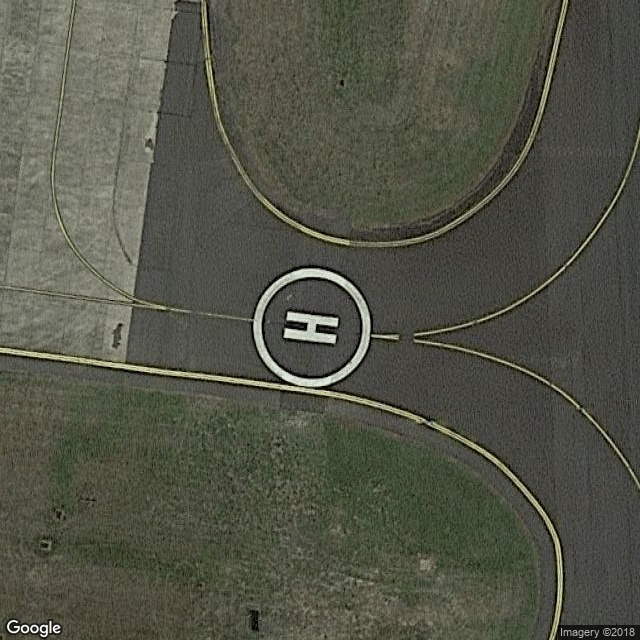heliport: (276, 300, 342, 348)
